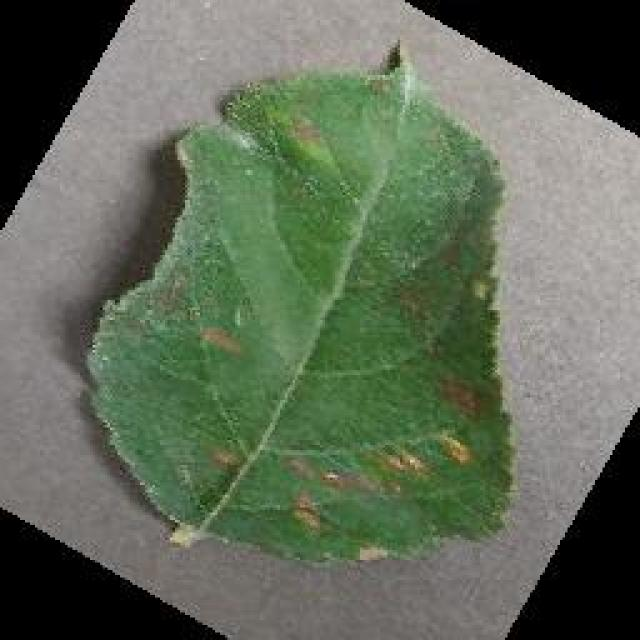apple cedar apple rust: (80, 37, 520, 565)
